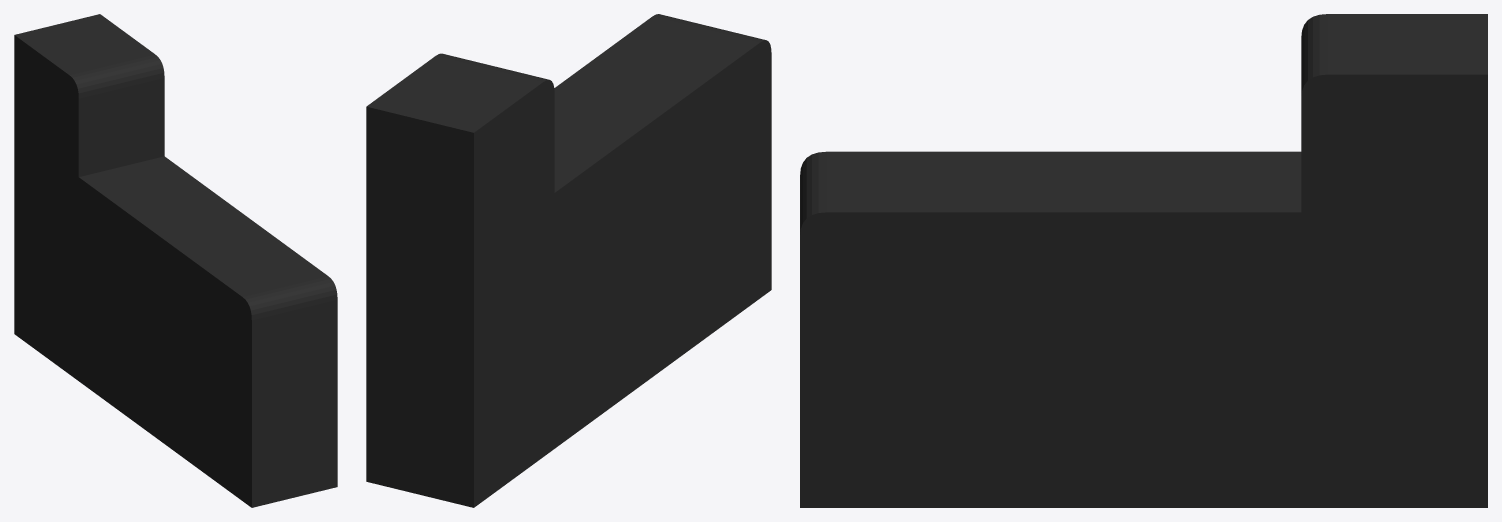
File: Floor02_4.FBX
3 renders of one model, left to right at view 1: azimuth 30°, elevation 25°; view 2: azimuth 150°, elevation 25°; view 3: azimuth 270°, elevation 25°, orthographic. The views are drawn at different scales.
Visible parts, largest first — view 1: Floor02_4; view 2: Floor02_4; view 3: Floor02_4.
Part boxes in pixels (box(x1,y1,x2,y2)): Floor02_4: box(14, 14, 337, 507); Floor02_4: box(366, 14, 771, 507); Floor02_4: box(800, 14, 1487, 507).
Bounding box in the file's own units: 300 × 1000 × 1439.
